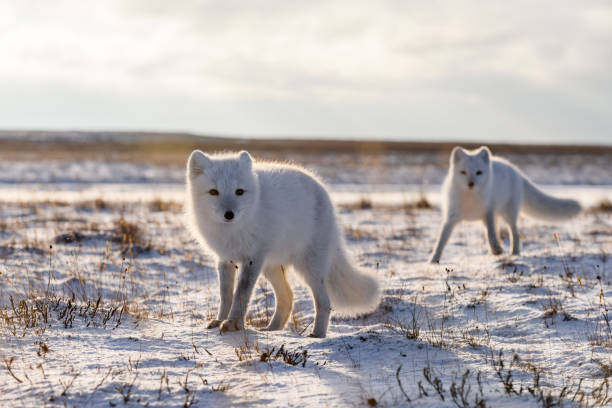arcticfox: (198, 165, 255, 234), (453, 158, 480, 196)
